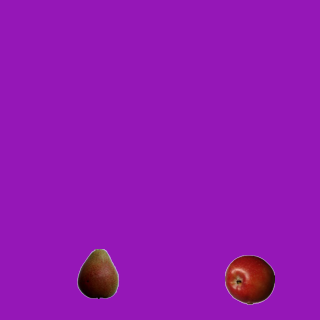Apple Braeburn: (224, 254, 274, 304)
Pear Forelle: (72, 248, 122, 298)
